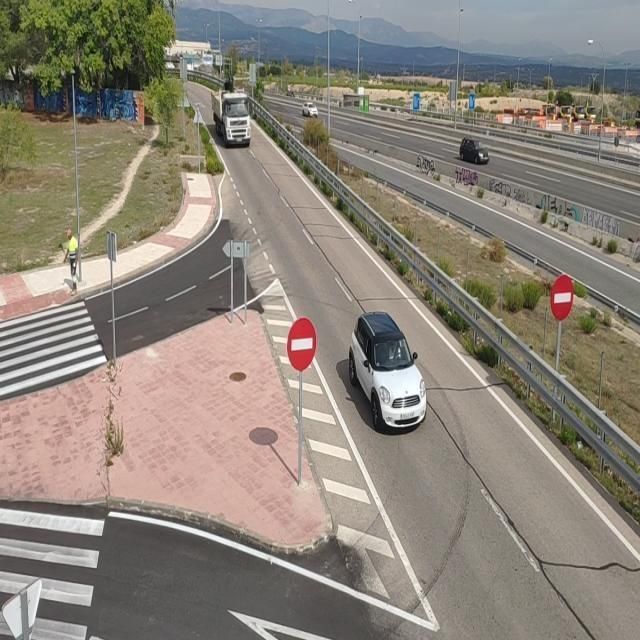Car: (348, 309, 428, 432), (458, 137, 489, 164), (301, 102, 320, 118)
Truck: (209, 87, 253, 149)
